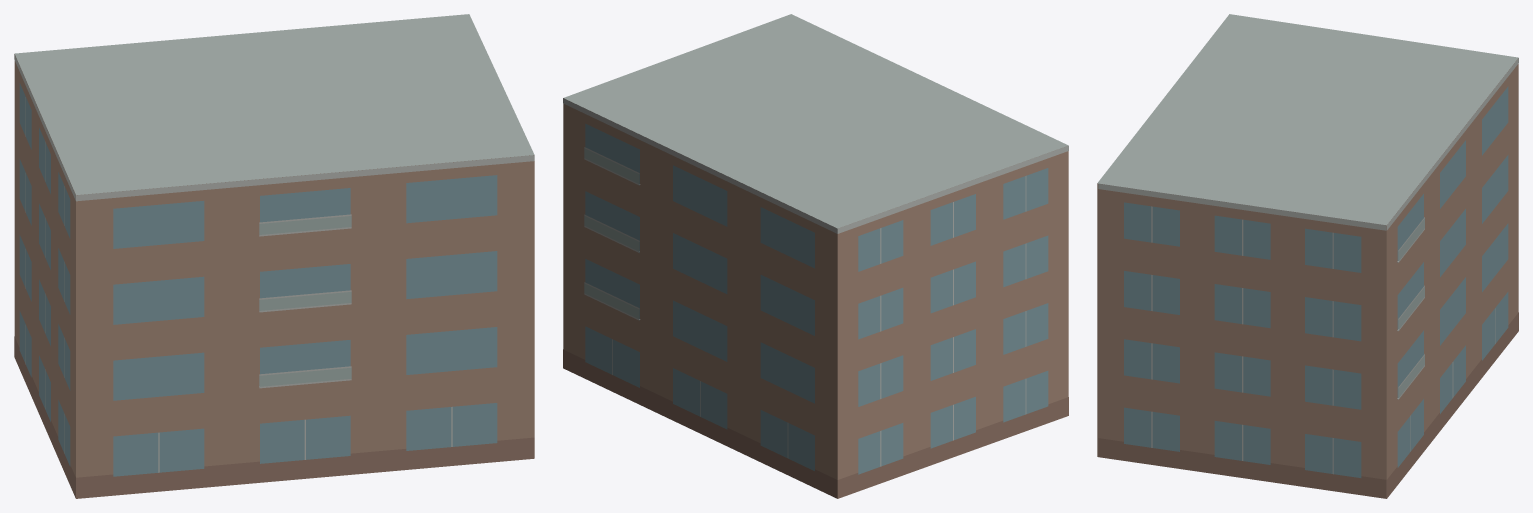
The model's file is survey-upis-33030400.glb.
3 renders of one model, left to right at view 1: azimuth 30°, elevation 25°; view 2: azimuth 150°, elevation 25°; view 3: azimuth 270°, elevation 25°, orthographic. The views are drawn at different scales.
Visible parts, largest first — view 1: survey-upis-33030400.tmp; view 2: survey-upis-33030400.tmp; view 3: survey-upis-33030400.tmp.
Boxes of the visible parts, x1,y1,x2,y2 form: survey-upis-33030400.tmp: (14,14,534,498); survey-upis-33030400.tmp: (563,14,1068,498); survey-upis-33030400.tmp: (1097,14,1518,498).
Bounding box in the file's own units: 20.05 × 12.1 × 16.91.
